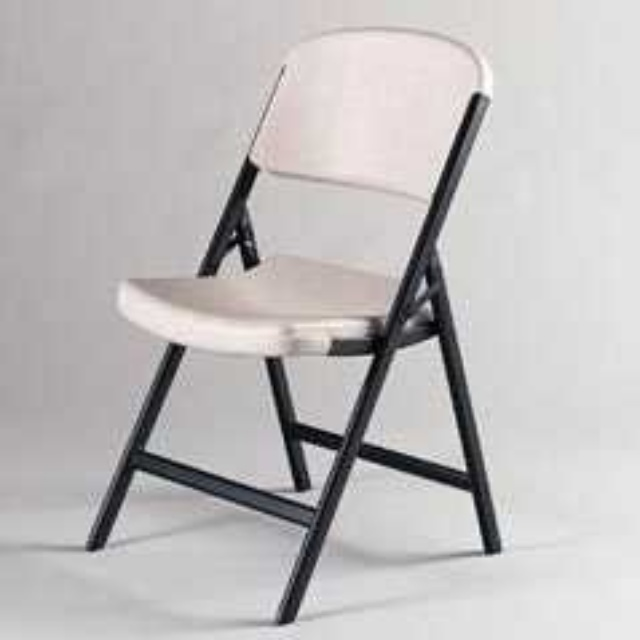obstacle: (86, 27, 498, 621)
